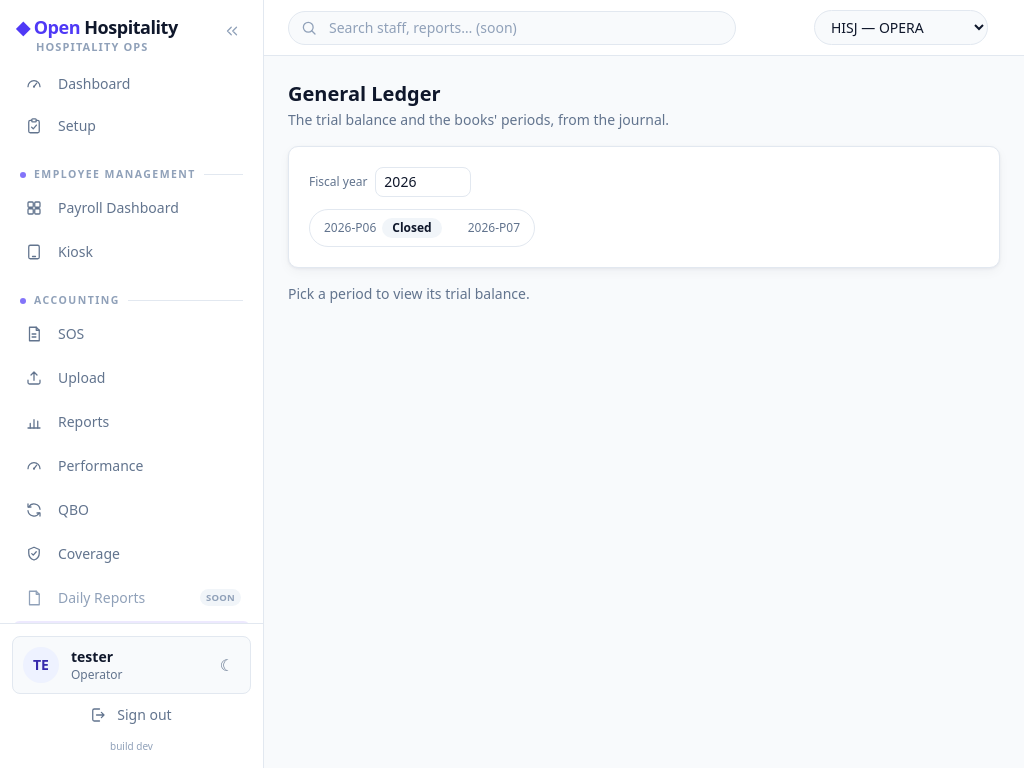
GlPage › stays typeable through a retype: partial digits show, the full year fetches
Expected: the element named "Fiscal periods" is shown, [309,209,535,247]
Replace the text in the number field labelled "Fiscal year" with "2": (423, 182) [375,167,471,197]
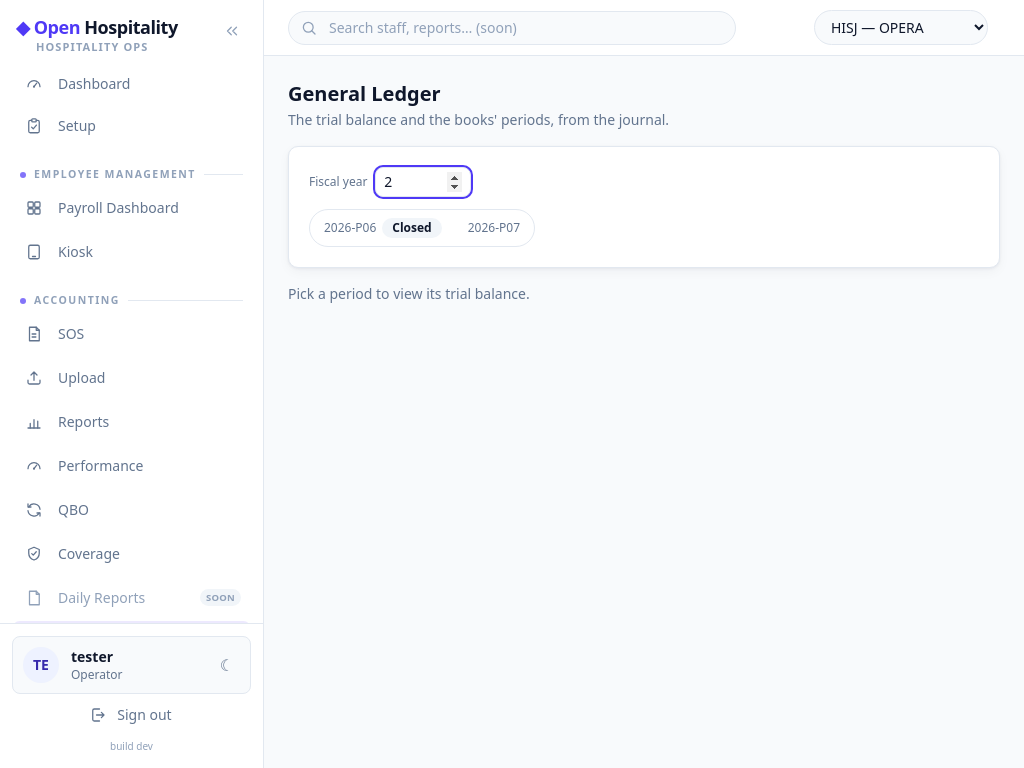
In the number field labelled "Fiscal year": (423, 182) [375,167,471,197], type "025"
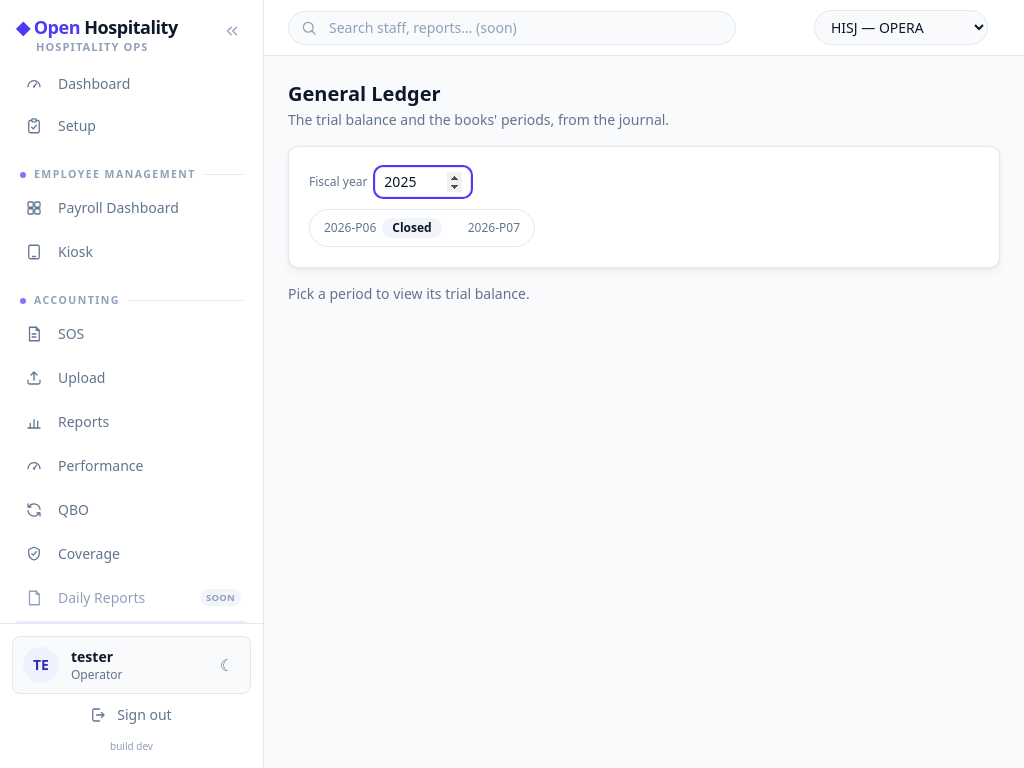
Expected: the number field labelled "Fiscal year" holds "2025", [375,167,471,197]
